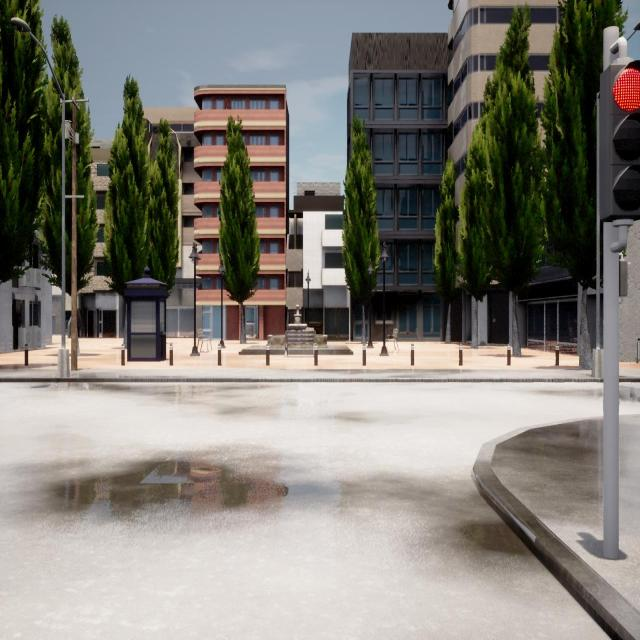traffic_light: (600, 60, 640, 221), (619, 260, 629, 298)
